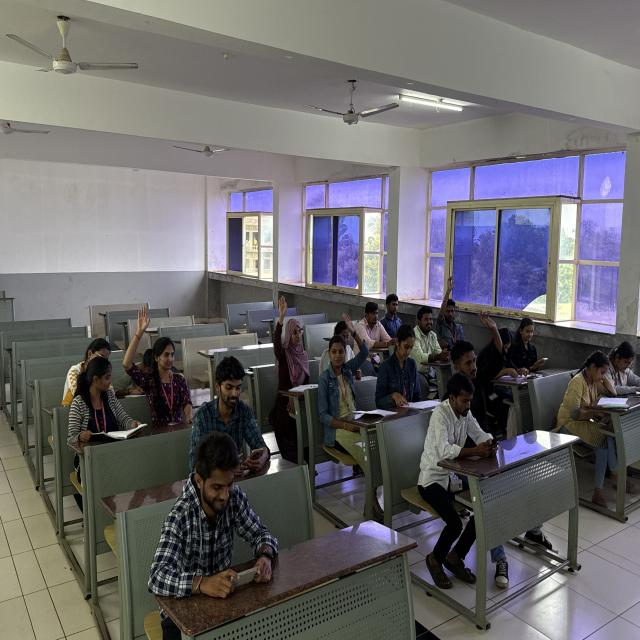Hand Rising: (312, 312, 374, 456), (122, 302, 193, 420), (264, 287, 322, 424), (434, 271, 471, 363)
Reading: (60, 352, 150, 450), (555, 348, 631, 432), (379, 322, 441, 418), (488, 326, 531, 394), (596, 336, 640, 398)
Using Phone: (150, 431, 272, 594), (408, 373, 496, 501), (191, 353, 270, 468), (406, 307, 453, 372), (513, 310, 553, 380)
